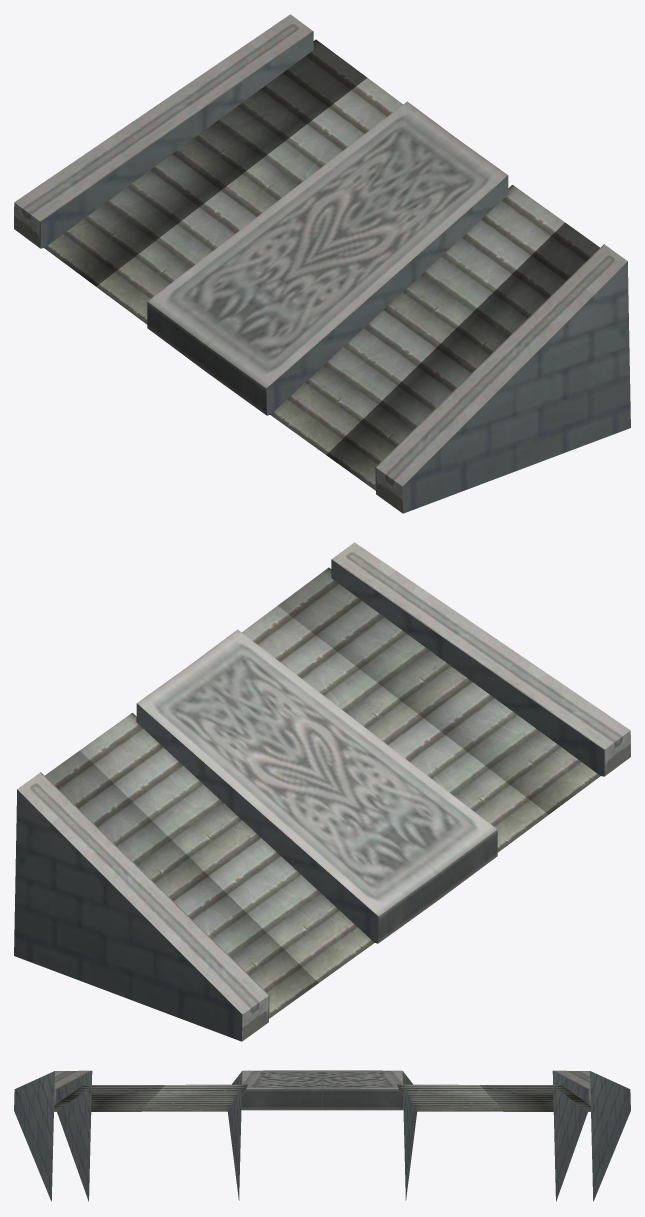
Rendered from jm_louti01_001.FBX.
3 views of the same model, one above another, from view 1: azimuth 30°, elevation 25°; view 2: azimuth 150°, elevation 25°; view 3: azimuth 270°, elevation 25° (orthographic). The views are drawn at different scales.
Parts seen in each view (by area): view 1: jm_louti01_001; view 2: jm_louti01_001; view 3: jm_louti01_001.
Boxes of the visible parts, box(x1,y1,x2,y2) form: jm_louti01_001: box(14, 14, 630, 513); jm_louti01_001: box(14, 542, 630, 1041); jm_louti01_001: box(14, 1070, 630, 1201).
Size of the model in its own units: 0.5434 by 0.3445 by 1.4.
